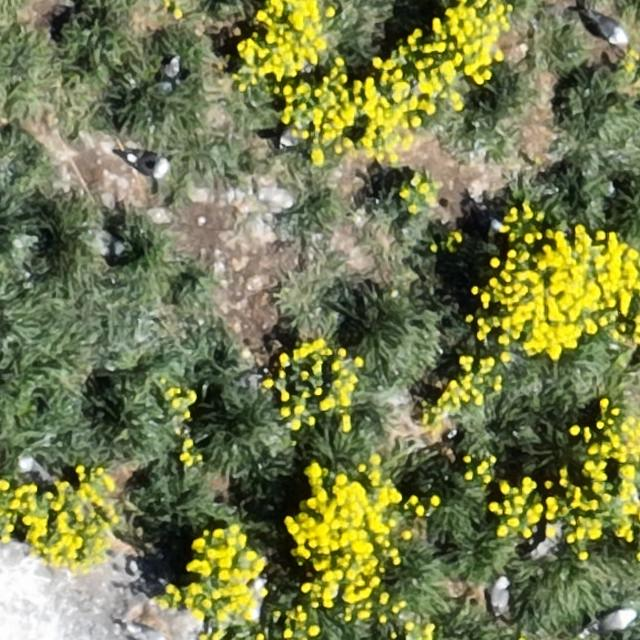umineko: (592, 15, 630, 44), (594, 609, 636, 632), (128, 154, 166, 176), (492, 576, 511, 614), (249, 580, 267, 619), (130, 626, 168, 640), (161, 56, 179, 84), (21, 457, 46, 477)
